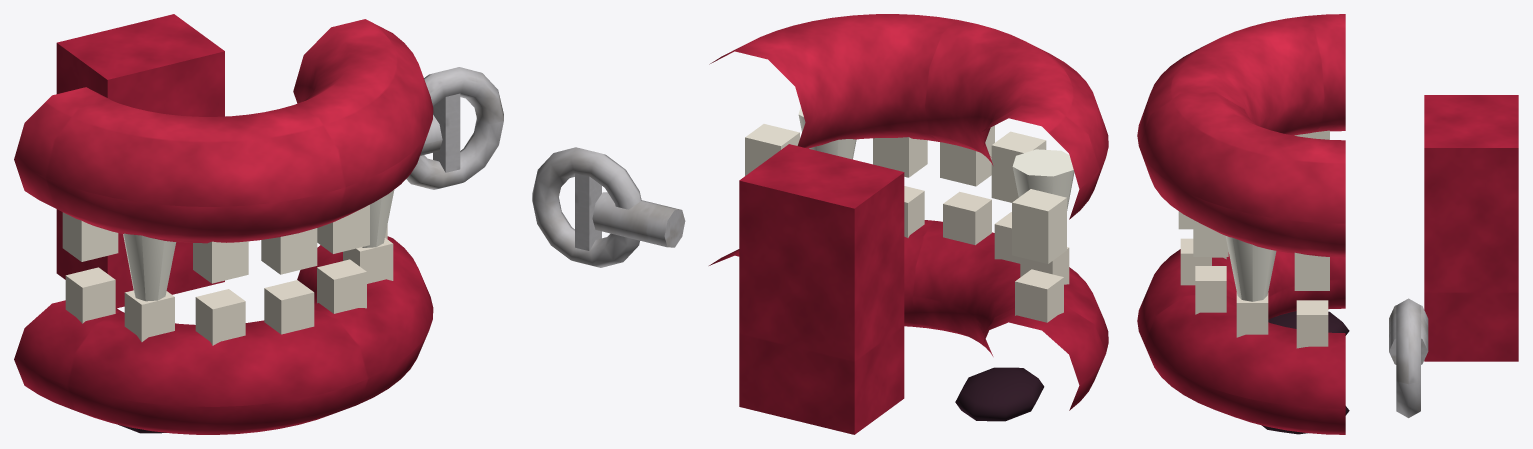
The model's file is eb4f342d-7ddb-473a-aa88-219156c3cdc7.glb.
The picture shows the model from 3 angles, left to right: view 1: azimuth 30°, elevation 25°; view 2: azimuth 150°, elevation 25°; view 3: azimuth 270°, elevation 25°; orthographic projection. The views are drawn at different scales.
Parts seen in each view (by area): view 1: Body; view 2: Body; view 3: Body.
Boxes of the visible parts, x1,y1,x2,y2 form: Body: [14, 14, 503, 434]; Body: [532, 14, 1108, 434]; Body: [1137, 14, 1518, 434].
Bounding box in the file's own units: 0.713 × 0.4263 × 0.485.
Materials: 4 (2 with a texture image).
